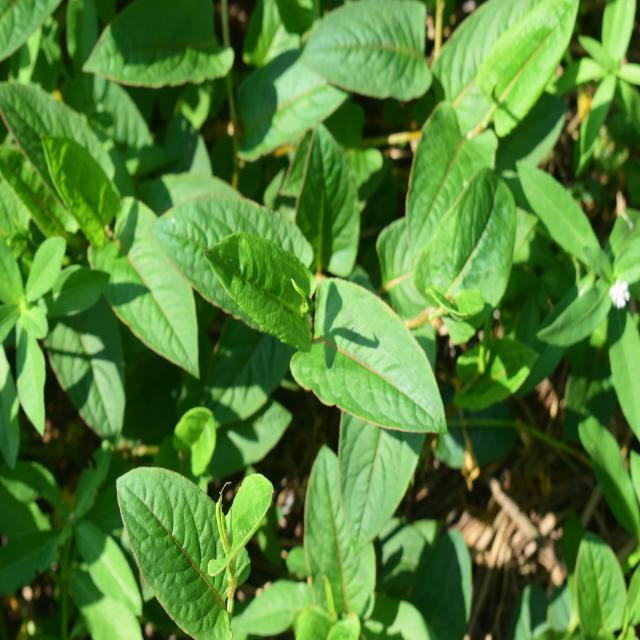Chinese_knotweed: (159, 112, 487, 458)
